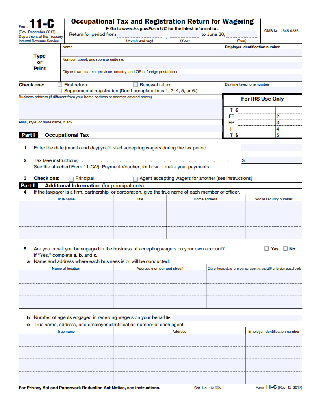checkbox: (68, 175, 75, 183), (132, 175, 139, 183), (282, 244, 289, 252), (57, 80, 63, 88), (132, 80, 138, 88), (57, 86, 63, 93), (263, 245, 269, 252)
textbox: (17, 92, 226, 121), (59, 54, 303, 71), (59, 66, 303, 83), (16, 118, 224, 133), (59, 43, 225, 58), (111, 343, 248, 360), (112, 331, 248, 348), (111, 355, 247, 372), (112, 369, 248, 386), (110, 268, 209, 286), (205, 267, 304, 285), (16, 344, 115, 361), (205, 281, 304, 298), (205, 293, 304, 310), (16, 211, 114, 228), (16, 224, 114, 241), (17, 281, 115, 298), (17, 293, 115, 310), (110, 280, 208, 297), (110, 293, 208, 310), (16, 200, 115, 216), (17, 270, 116, 286), (16, 332, 115, 348), (17, 358, 116, 374), (16, 369, 115, 385), (163, 211, 246, 228), (164, 199, 248, 215), (221, 42, 304, 58), (222, 80, 305, 96), (163, 224, 246, 240), (243, 199, 304, 216), (244, 211, 304, 228), (244, 223, 304, 240), (244, 343, 304, 360), (244, 356, 304, 373), (244, 369, 304, 386), (244, 331, 303, 348), (111, 224, 168, 241), (111, 211, 167, 228), (112, 199, 168, 215), (235, 105, 278, 114), (234, 111, 277, 120), (234, 118, 277, 127), (234, 124, 277, 133), (235, 131, 278, 140), (274, 112, 304, 121), (274, 118, 304, 127), (274, 129, 304, 138), (274, 106, 303, 115), (275, 124, 304, 133)
textline: (170, 315, 305, 323), (240, 144, 306, 152), (241, 157, 308, 164), (116, 32, 164, 39), (168, 31, 201, 39), (226, 31, 258, 38)
